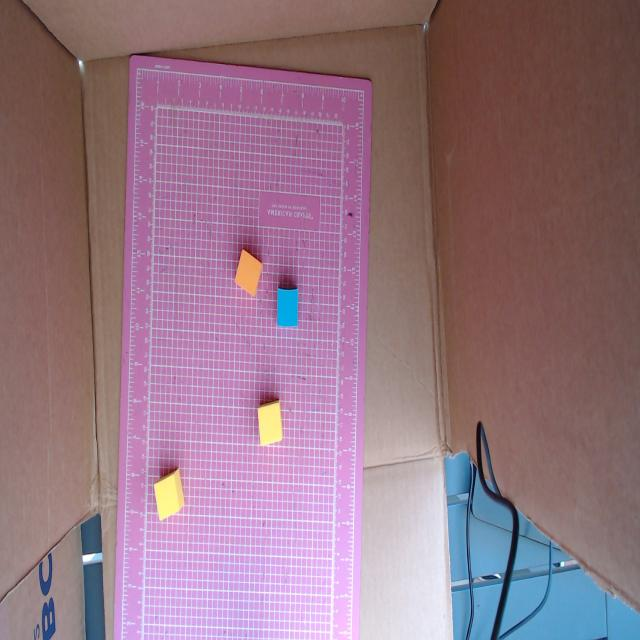bluecube: (277, 285, 298, 327)
orangecube: (235, 249, 262, 296)
yellowcube: (154, 469, 184, 520), (257, 400, 283, 446)
